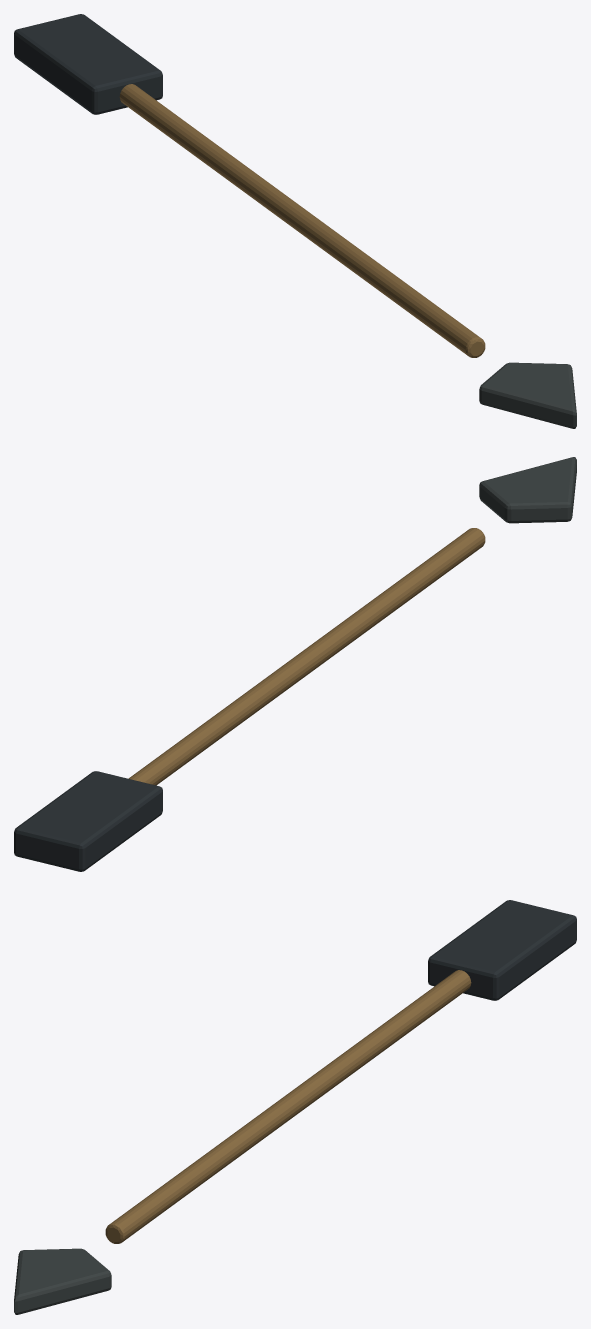
The model's file is arrow_gameplay_LOD1.glb.
3 renders of one model, top to bottom at view 1: azimuth 30°, elevation 25°; view 2: azimuth 150°, elevation 25°; view 3: azimuth 330°, elevation 25°, orthographic.
Parts seen in each view (by area): view 1: LOD1_Shaft, LOD1_Fletching, LOD1_Head; view 2: LOD1_Shaft, LOD1_Fletching, LOD1_Head; view 3: LOD1_Shaft, LOD1_Fletching, LOD1_Head.
Part boxes in pixels (<box>): LOD1_Shaft: <box>119,84,485,357</box>; LOD1_Fletching: <box>14,14,162,114</box>; LOD1_Head: <box>479,362,576,428</box>; LOD1_Shaft: <box>128,528,485,785</box>; LOD1_Fletching: <box>14,771,162,871</box>; LOD1_Head: <box>479,457,576,523</box>; LOD1_Shaft: <box>105,970,471,1243</box>; LOD1_Fletching: <box>428,900,576,1000</box>; LOD1_Head: <box>14,1248,111,1314</box>.
Size of the model in its own units: 0.1162 by 0.035 by 1.16.
